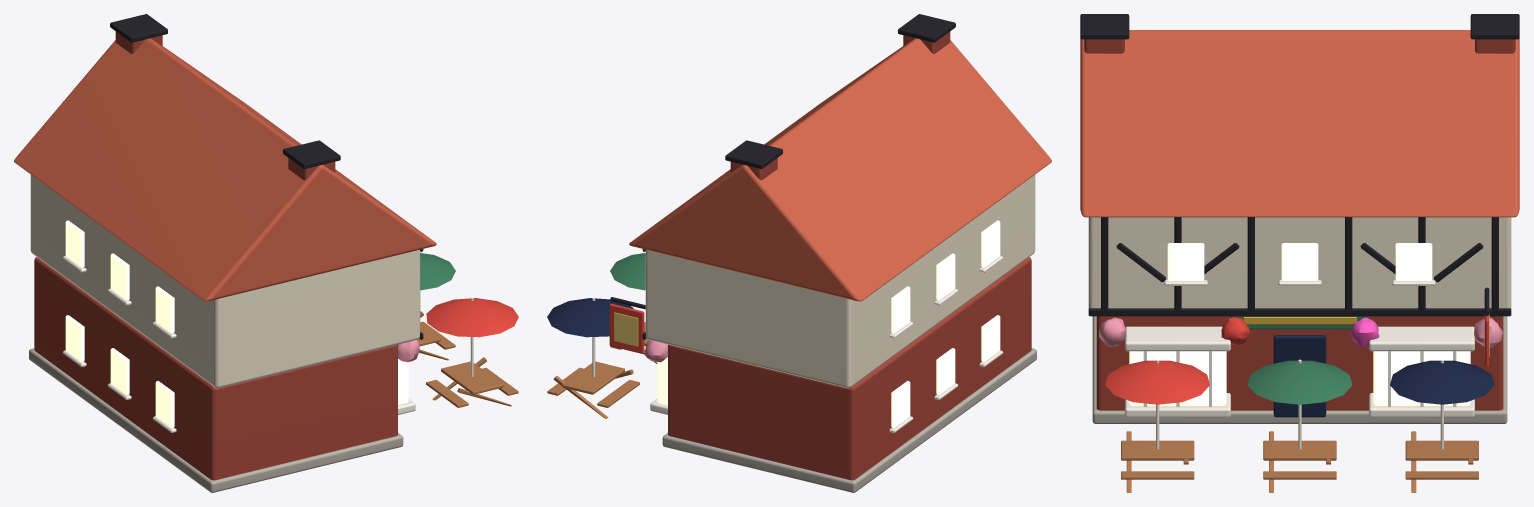
Rendered from village_inn.glb.
The picture shows the model from 3 angles, left to right: view 1: azimuth 30°, elevation 25°; view 2: azimuth 150°, elevation 25°; view 3: azimuth 270°, elevation 25°; orthographic projection. The views are drawn at different scales.
Visible parts, largest first — view 1: village_inn; view 2: village_inn; view 3: village_inn.
Boxes of the visible parts, bbox=[...] form: village_inn: bbox=[14, 14, 518, 492]; village_inn: bbox=[547, 14, 1051, 492]; village_inn: bbox=[1080, 14, 1519, 492].
Size of the model in its own units: 10.94 by 9.58 by 10.8.
Materials: 1 (1 with a texture image).
